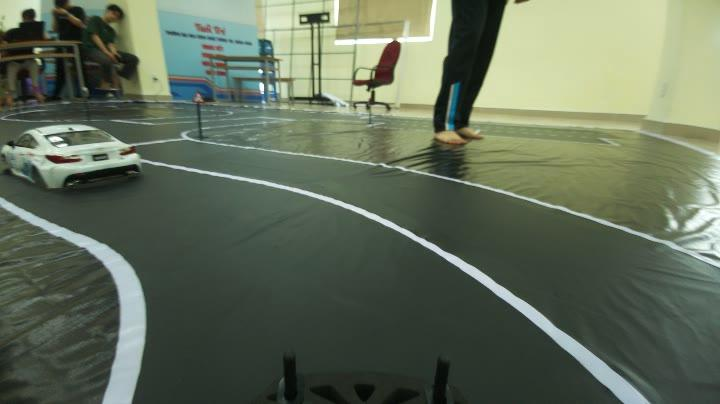car: (1, 112, 147, 199)
